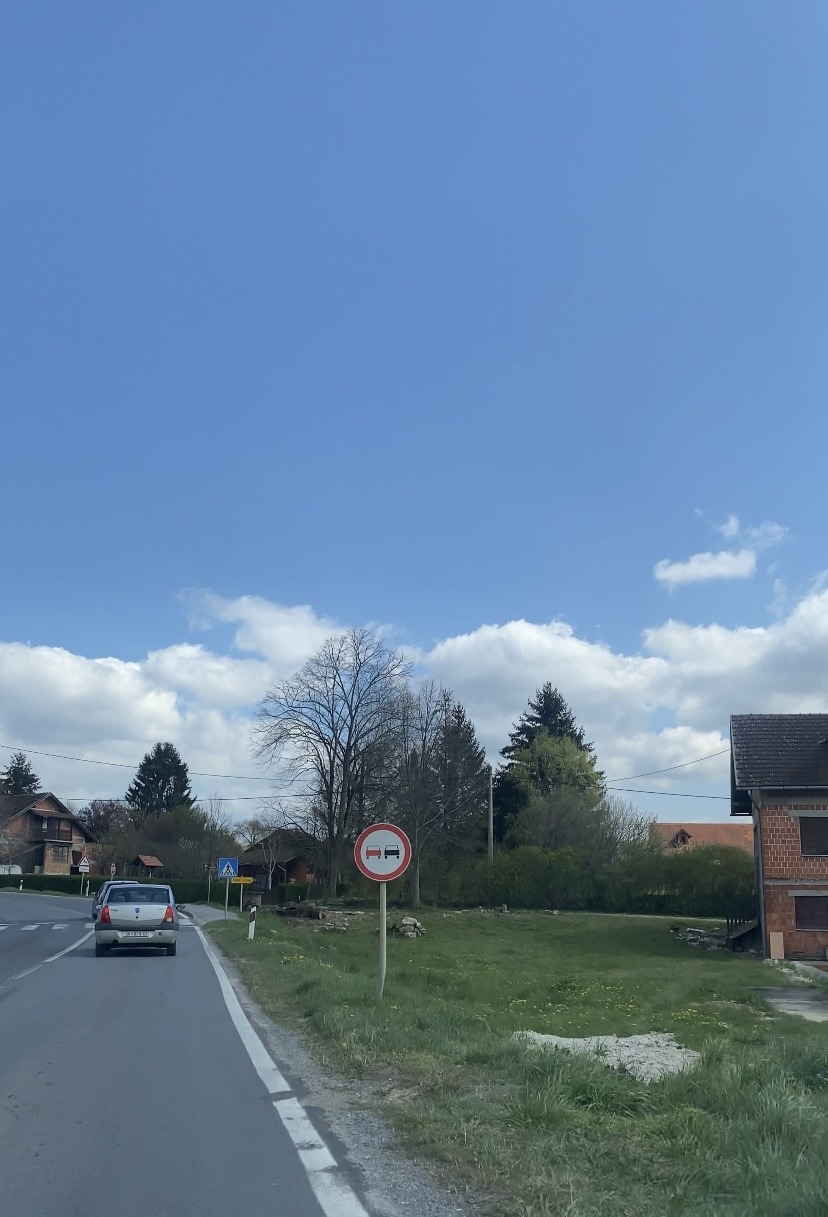Pješački prijelaz: (218, 858, 238, 878)
Zabrana pretjecanja: (354, 823, 412, 881)
